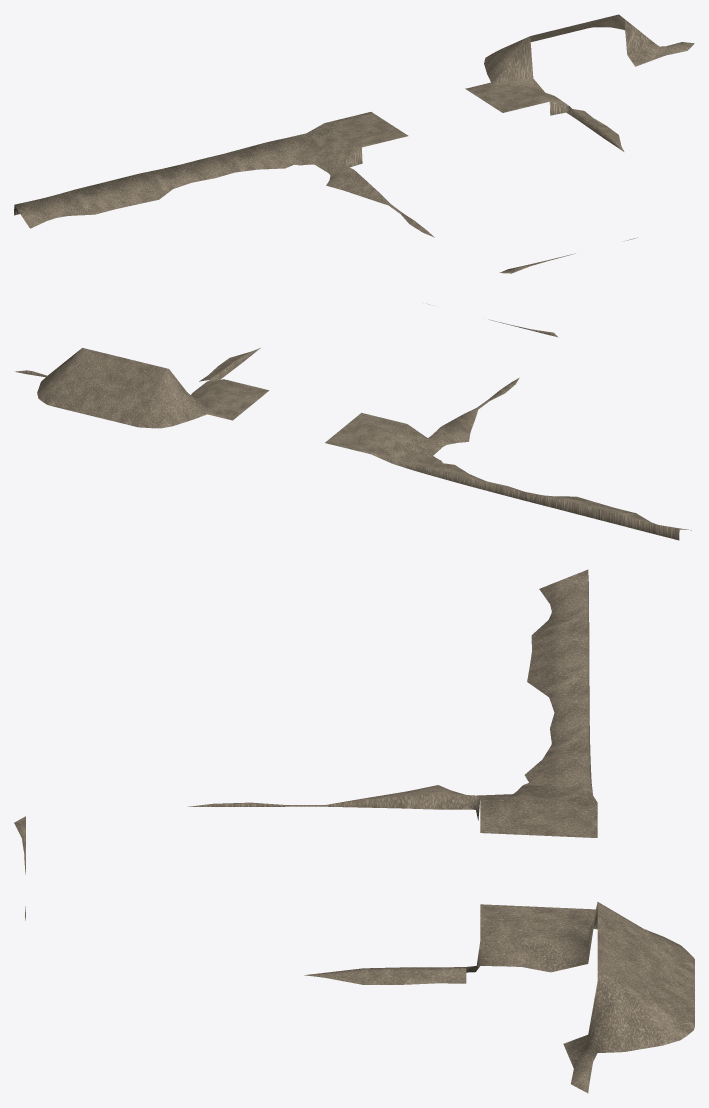
File: SM_SubstationField_ApronGrade_LOD2.fbx
3 renders of one model, top to bottom at view 1: azimuth 30°, elevation 25°; view 2: azimuth 150°, elevation 25°; view 3: azimuth 270°, elevation 25°, orthographic. The views are drawn at different scales.
Visible parts, largest first — view 1: SM_SubstationField_ApronGrade_LOD2; view 2: SM_SubstationField_ApronGrade_LOD2; view 3: SM_SubstationField_ApronGrade_LOD2.
Boxes of the visible parts, left/top/right/bottom form: SM_SubstationField_ApronGrade_LOD2: left=14, top=14, right=694, bottom=273; SM_SubstationField_ApronGrade_LOD2: left=15, top=304, right=691, bottom=540; SM_SubstationField_ApronGrade_LOD2: left=14, top=569, right=694, bottom=1093.
Size of the model in its own units: 13.05 by 7.27 by 0.9589.
